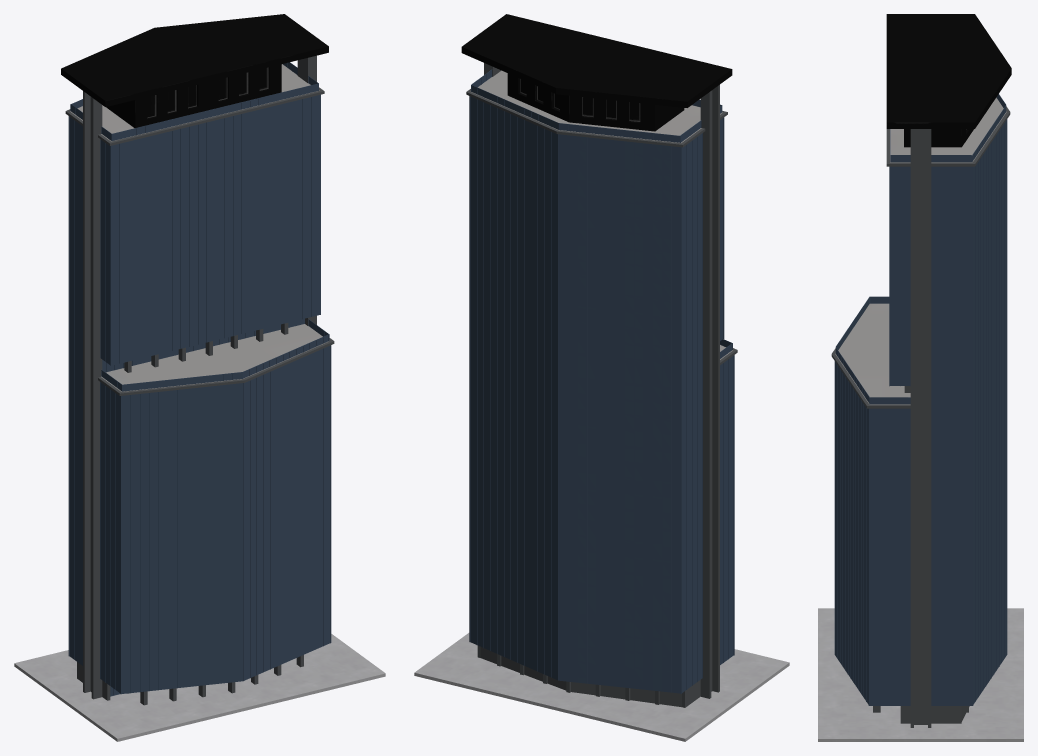
Rendered from bk_city_office.obj.
The picture shows the model from 3 angles, left to right: view 1: azimuth 30°, elevation 25°; view 2: azimuth 150°, elevation 25°; view 3: azimuth 270°, elevation 25°; orthographic projection.
Bounding box in the file's own units: 0.4601 × 1 × 0.3067.
Materials: 1 (1 with a texture image).
